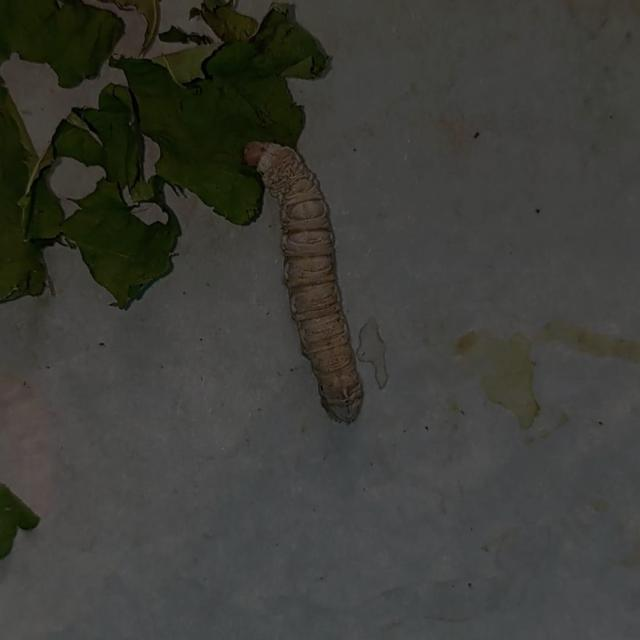Grasserie: (204, 100, 403, 438)
